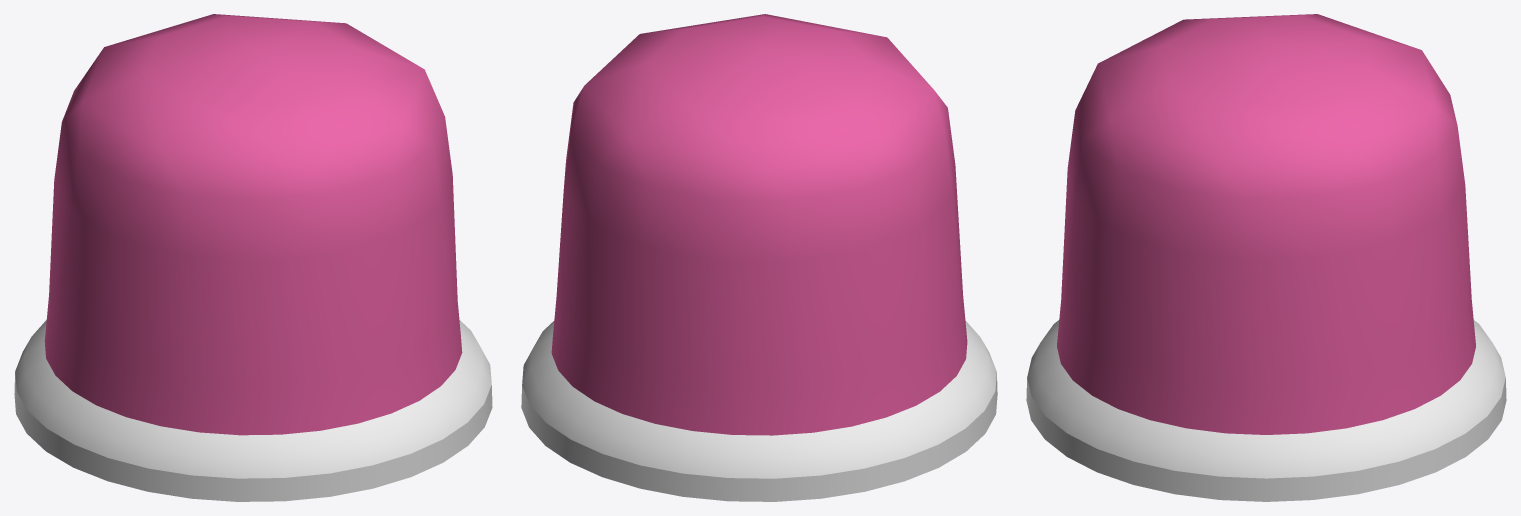
Rendered from SM_Alarm_Lamp.fbx.
The picture shows the model from 3 angles, left to right: view 1: azimuth 30°, elevation 25°; view 2: azimuth 150°, elevation 25°; view 3: azimuth 270°, elevation 25°; orthographic projection.
Visible parts, largest first — view 1: Sphere.001; view 2: Sphere.001; view 3: Sphere.001.
Boxes of the visible parts, x1=… form: Sphere.001: x1=14, y1=14, x2=492, y2=501; Sphere.001: x1=521, y1=14, x2=997, y2=501; Sphere.001: x1=1026, y1=14, x2=1506, y2=501.
Bounding box in the file's own units: 32.59 × 26.77 × 32.59.
